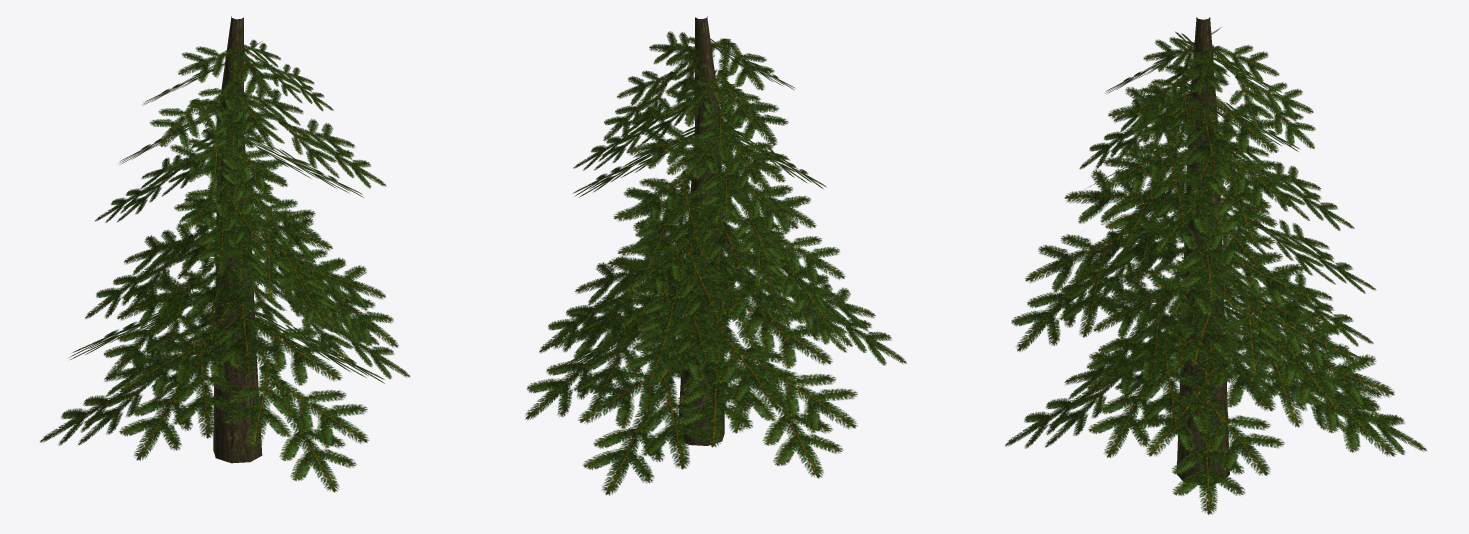
File: treeMod1_LOD80.glb
3 renders of one model, left to right at view 1: azimuth 30°, elevation 25°; view 2: azimuth 150°, elevation 25°; view 3: azimuth 270°, elevation 25°, orthographic. The views are drawn at different scales.
Parts seen in each view (by area): view 1: tree_1.png__, wooden.jpg__; view 2: tree_1.png__, wooden.jpg__; view 3: tree_1.png__, wooden.jpg__.
Part boxes in pixels (x1,y1,x2,y2): tree_1.png__: (39,39,410,492); wooden.jpg__: (213,16,262,463); tree_1.png__: (525,31,906,495); wooden.jpg__: (679,16,724,445); tree_1.png__: (1005,27,1426,514); wooden.jpg__: (1176,17,1229,485).
Size of the model in its own units: 10.05 by 10.74 by 10.77.
Materials: 2 (2 with a texture image).
